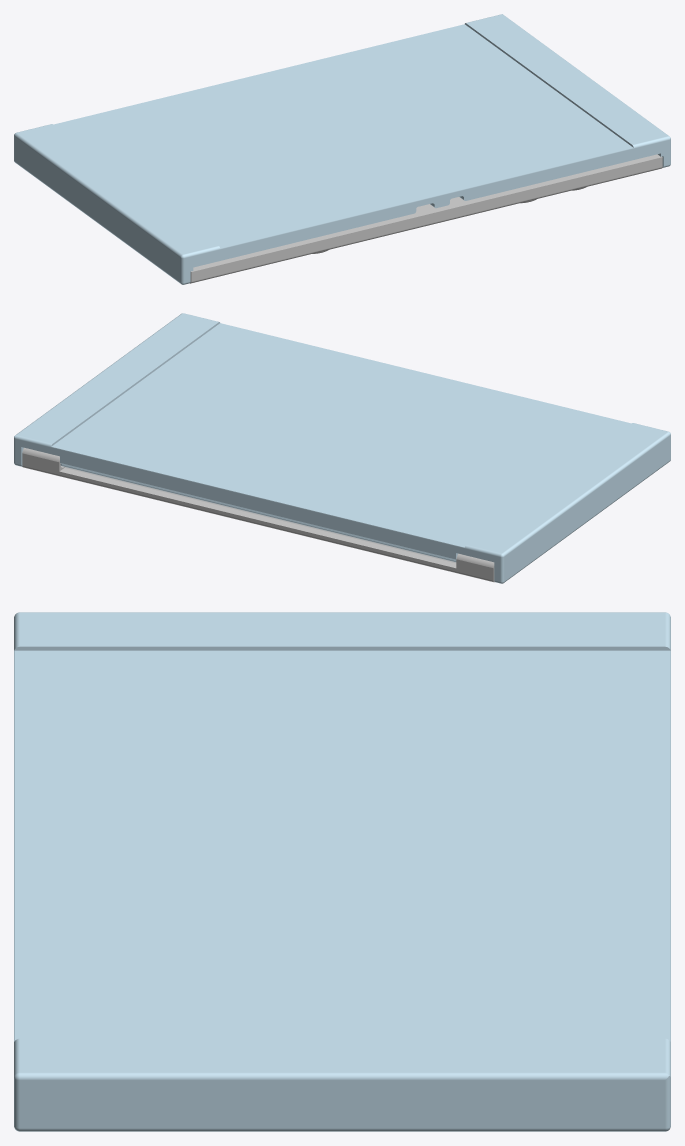
File: plateau.gltf
The picture shows the model from 3 angles, top to bottom: view 1: azimuth 30°, elevation 25°; view 2: azimuth 150°, elevation 25°; view 3: azimuth 270°, elevation 25°; orthographic projection. The views are drawn at different scales.
Parts seen in each view (by area): view 1: plateau-back, plateau-front; view 2: plateau-back, plateau-front; view 3: plateau-back.
Boxes of the visible parts, x1,y1,x2,y2 form: plateau-back: (14, 14, 670, 284); plateau-front: (190, 154, 662, 283); plateau-back: (14, 313, 670, 583); plateau-front: (22, 447, 494, 582); plateau-back: (14, 612, 670, 1131).
Bounding box in the file's own units: 0.262 × 0.0188 × 0.1566.
